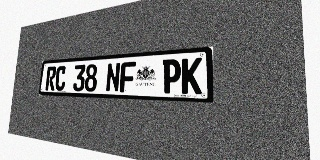3: (73, 64, 86, 91)
8: (84, 64, 98, 92)
C: (54, 66, 67, 91)
F: (119, 61, 136, 92)
K: (181, 57, 202, 94)
N: (105, 62, 121, 92)
P: (162, 59, 181, 94)
R: (45, 66, 57, 91)
